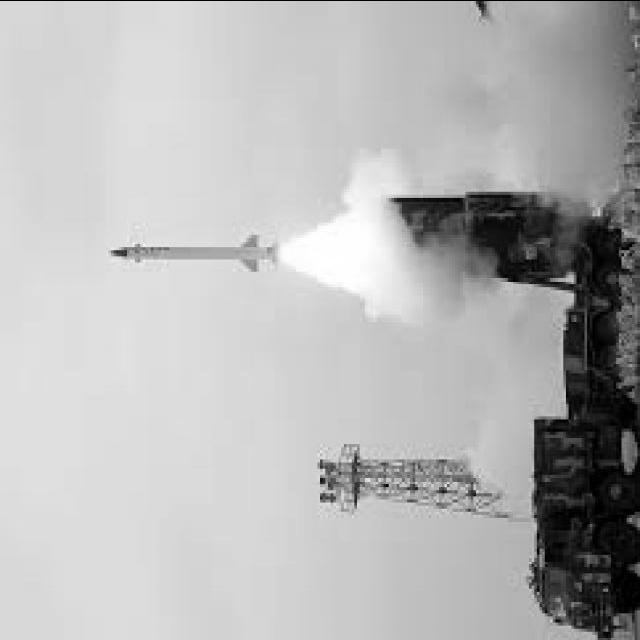Missile: (95, 229, 293, 274)
